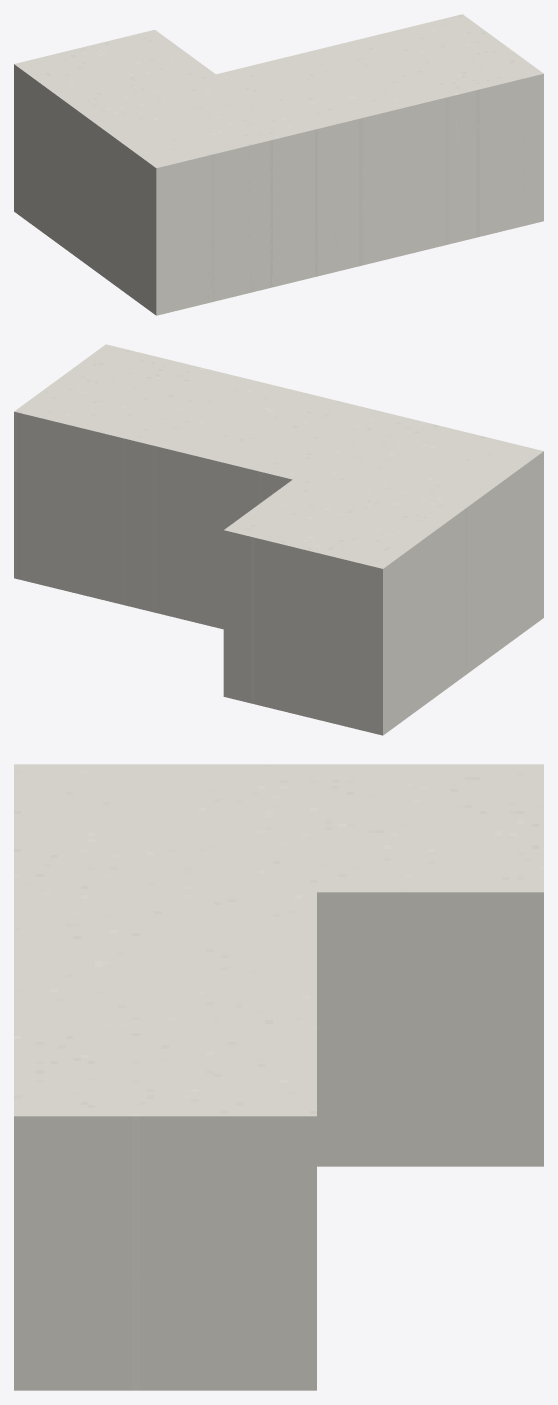
The model's file is PhaoChi_Goc.glb.
3 views of the same model, one above another, from view 1: azimuth 30°, elevation 25°; view 2: azimuth 150°, elevation 25°; view 3: azimuth 270°, elevation 25° (orthographic). The views are drawn at different scales.
Visible parts, largest first — view 1: geometry_0; view 2: geometry_0; view 3: geometry_0.
Part boxes in pixels (x1,y1,x2,y2): geometry_0: [14, 14, 543, 315]; geometry_0: [14, 344, 543, 735]; geometry_0: [14, 764, 543, 1390].
Bounding box in the file's own units: 0.22 × 0.08 × 0.14.
1 material, 1 textured.
